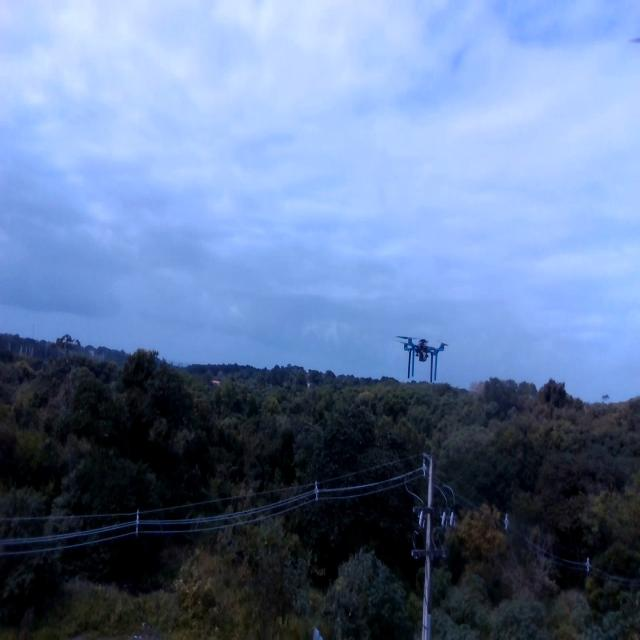-uav-: (392, 320, 450, 394)
